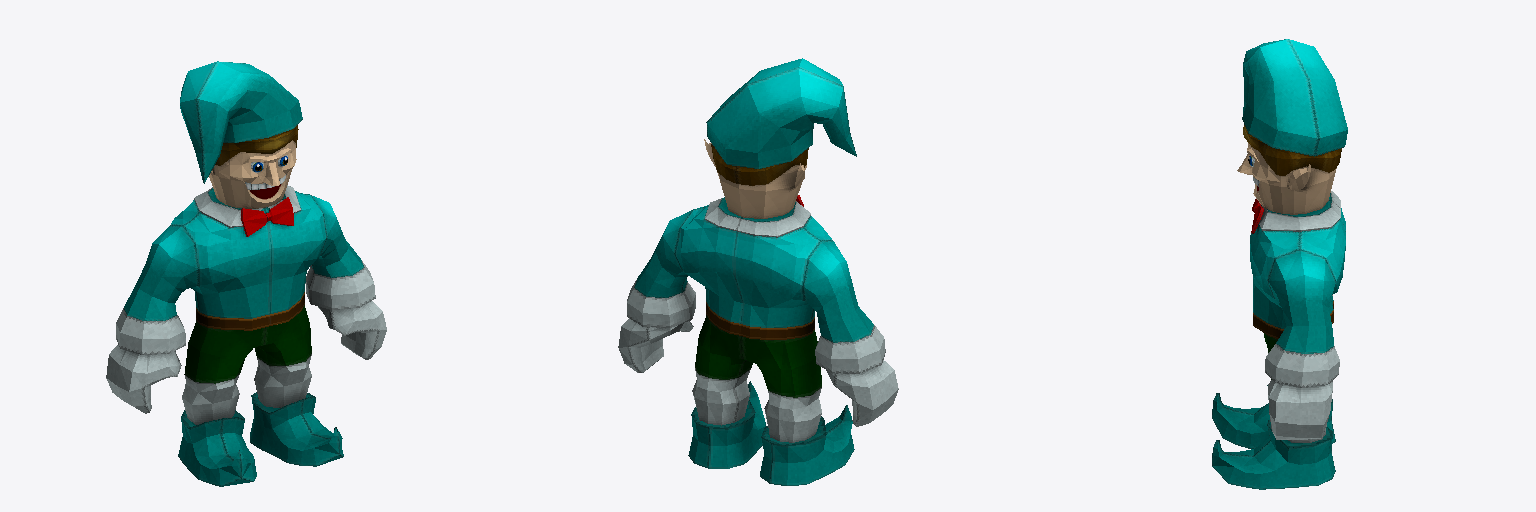
3 views of the same model, side by side, from view 1: azimuth 30°, elevation 25°; view 2: azimuth 150°, elevation 25°; view 3: azimuth 270°, elevation 25° (orthographic).
Parts seen in each view (by area): view 1: Handle1; view 2: Handle1; view 3: Handle1.
Boxes of the visible parts, box(x1,y1,x2,y2) form: Handle1: box(106, 61, 386, 486); Handle1: box(618, 58, 898, 485); Handle1: box(1212, 39, 1347, 489).
Bounding box in the file's own units: 1.74 × 2.58 × 0.7985.
Materials: 1 (1 with a texture image).